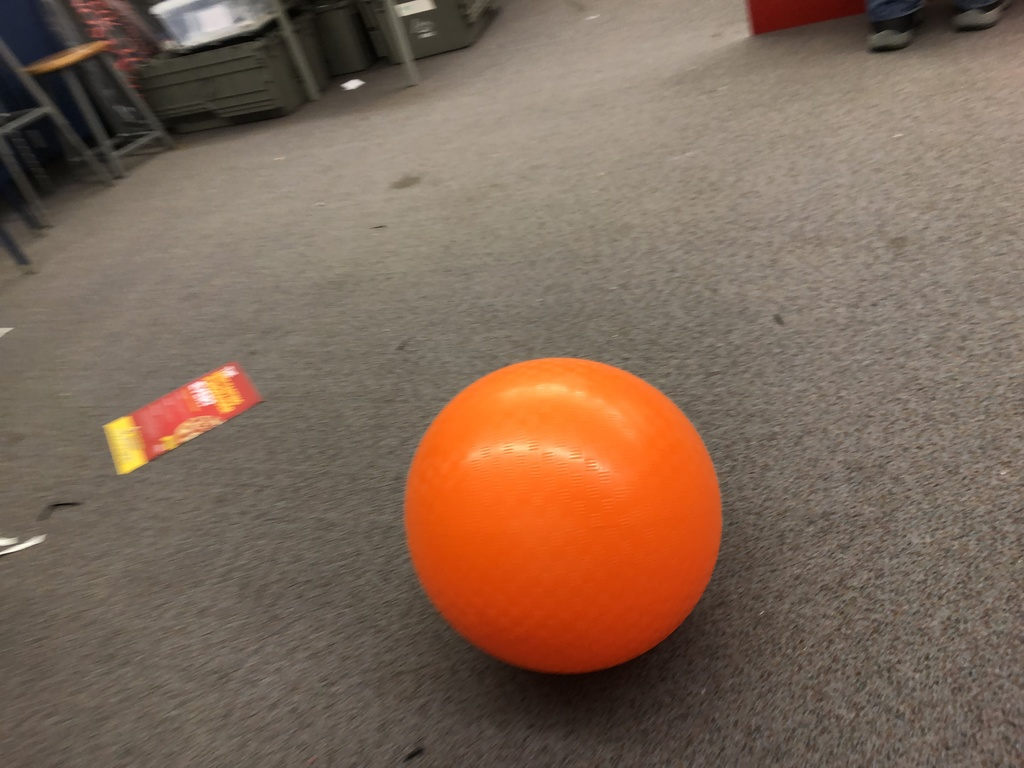cargo: (392, 345, 749, 690)
